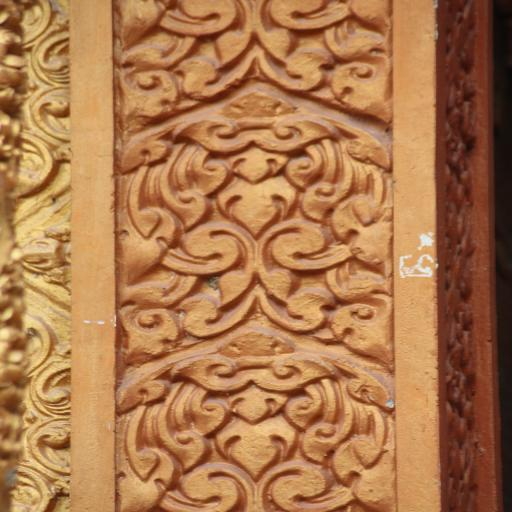la: (118, 0, 354, 88)
